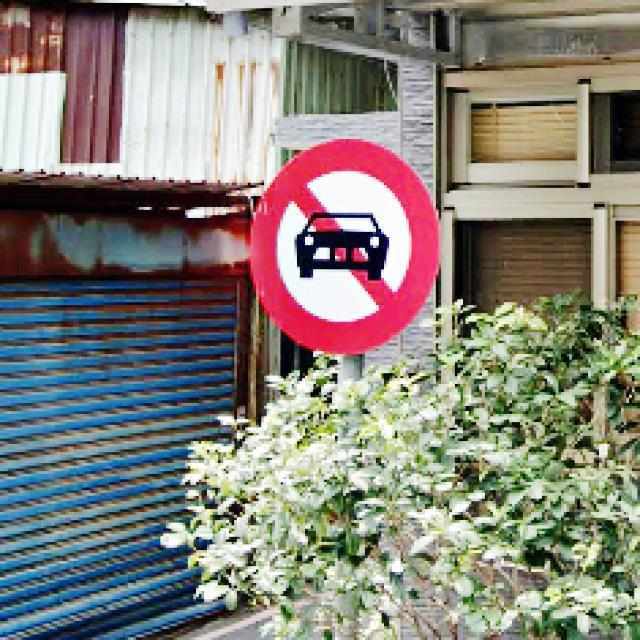nocar: (248, 142, 441, 359)
